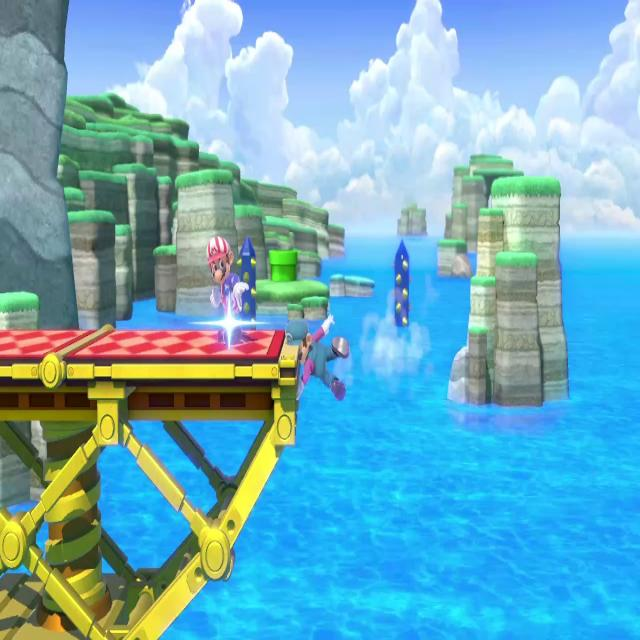Mario-DS: (202, 237, 256, 351)
Mario-mad: (285, 307, 351, 404)
